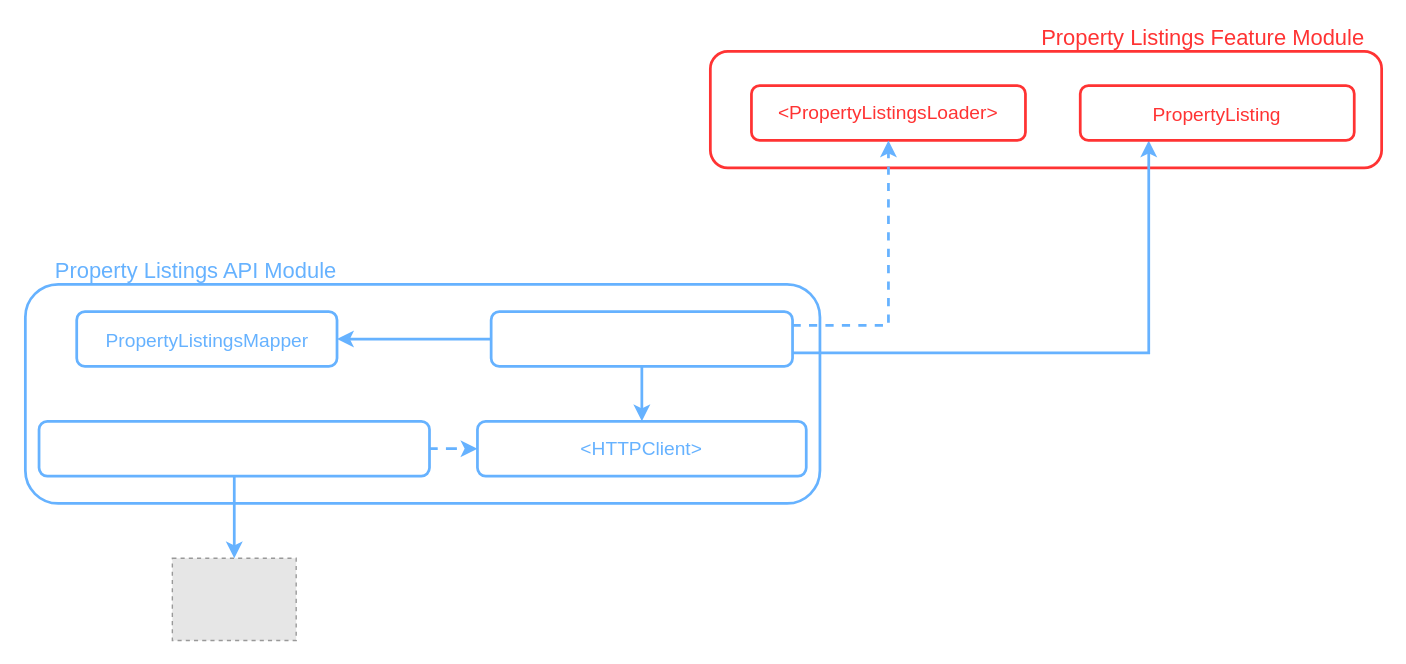
This 1406x664 diagram has some shape labels left out. Grey dashed boxes stand in for pictures. Here are the shapes that lost their labels. From the top down, the box of each, then its label:
(489, 310, 793, 367): RemotePropertyListingsLoader
(37, 419, 430, 477): URLSessionHTTPClient
